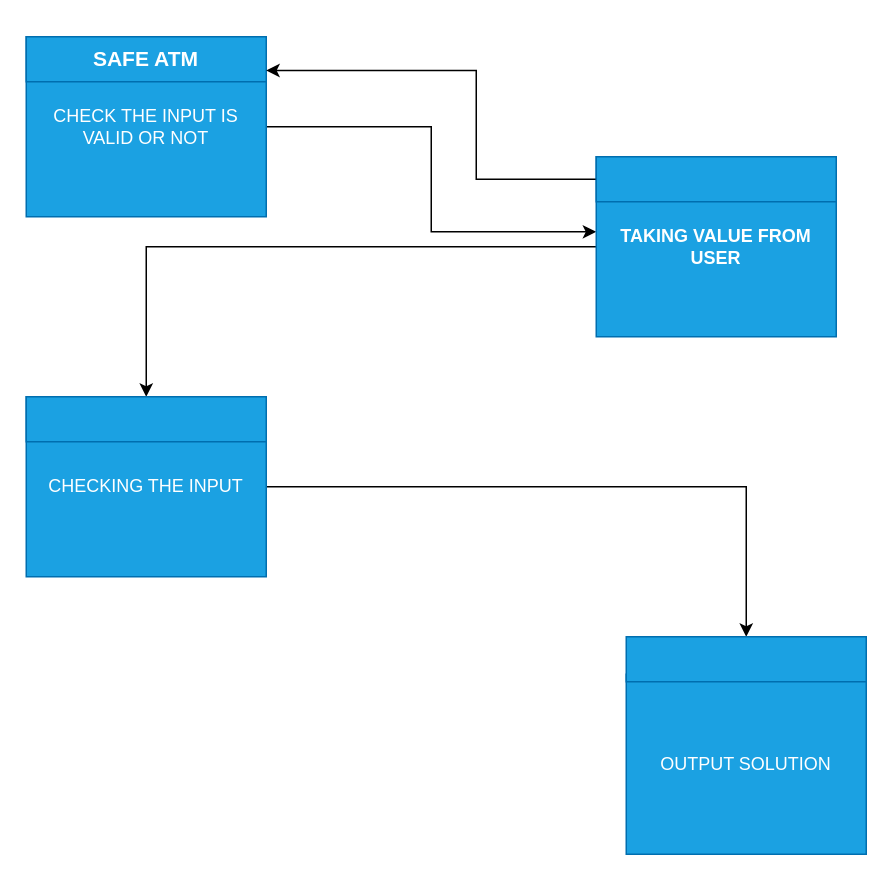
Some shapes in this 893 by 881 pixel diagram are drawn without their labels. The centre of each missing label's shape, as x and y in pixels:
"GOING THROUGH THE TRANSACTION" goes at (x=715, y=178).
"MAIN()" goes at (x=145, y=418).
"PRINT OUTPUT" goes at (x=745, y=658).
